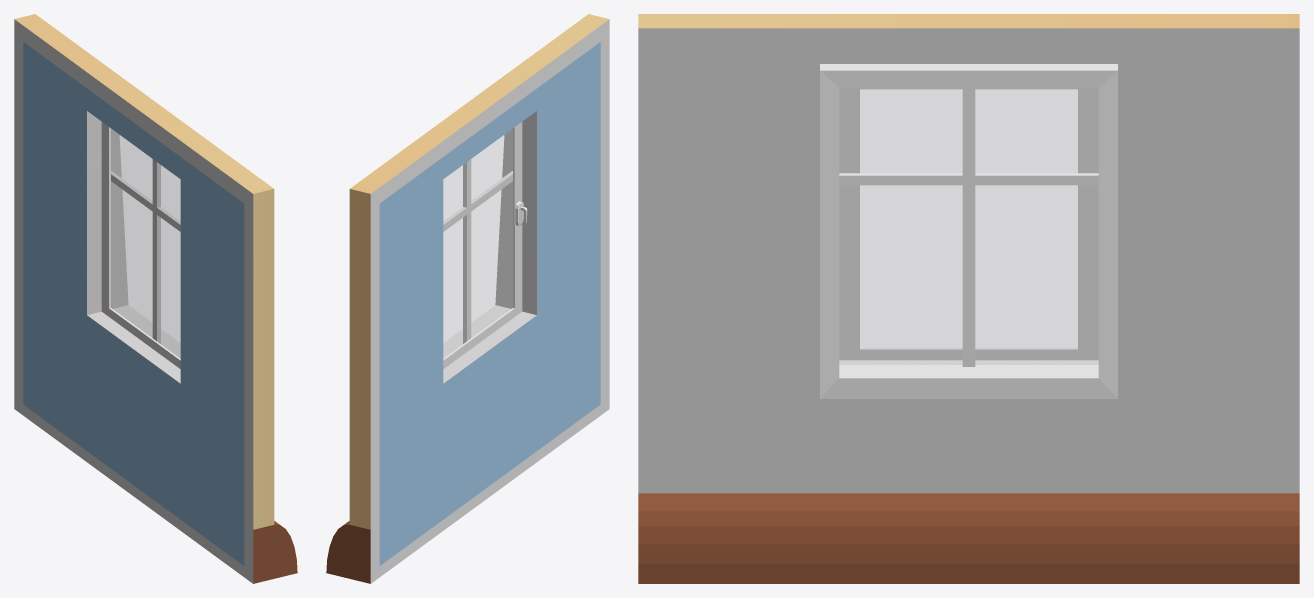
Rendered from Window-A.fbx.
3 renders of one model, left to right at view 1: azimuth 30°, elevation 25°; view 2: azimuth 150°, elevation 25°; view 3: azimuth 270°, elevation 25°, orthographic. The views are drawn at different scales.
Parts seen in each view (by area): view 1: Window A; view 2: Window A; view 3: Window A.
Part boxes in pixels (bbox=[...]): Window A: bbox=[14, 14, 297, 583]; Window A: bbox=[326, 14, 609, 583]; Window A: bbox=[638, 14, 1299, 583].
Size of the model in its own units: 85.83 by 721 by 800.
